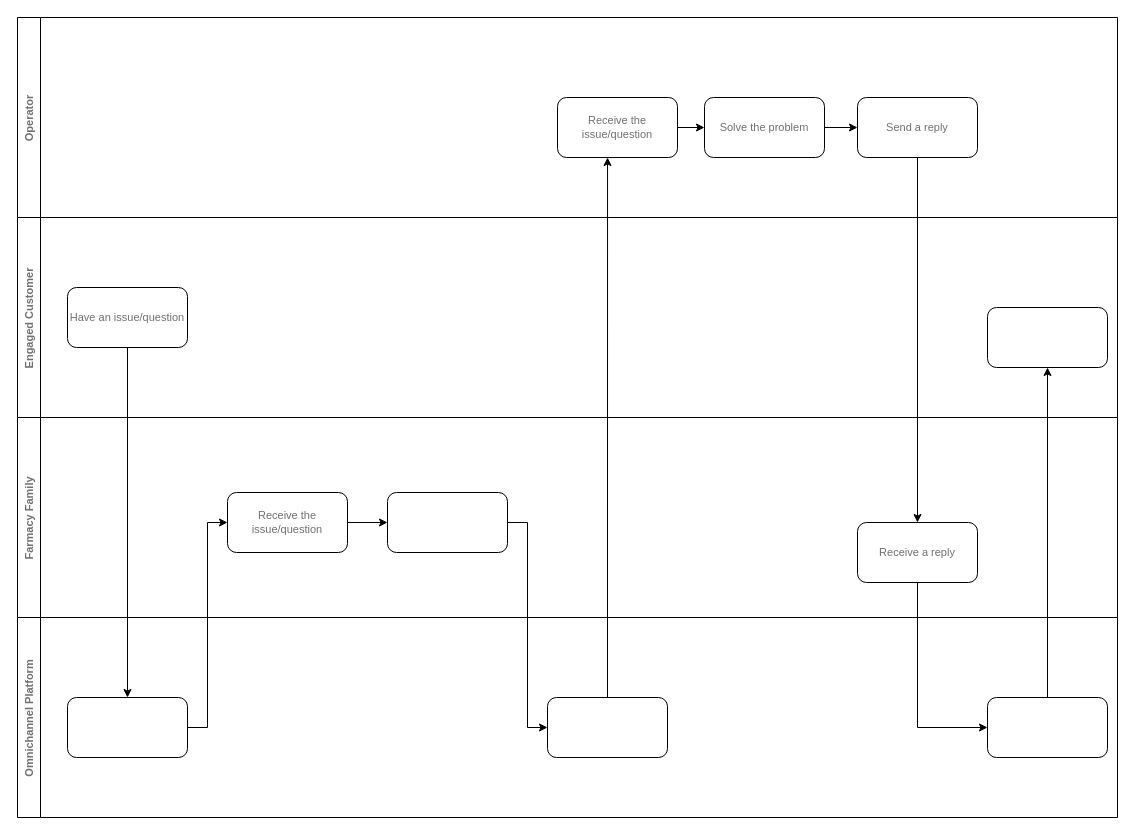
This 1135x835 diagram has some shape labels left out. Here are the shapes that lost their labels. From the top down, the centre of each, then its label:
the point at 1047,337: Receive solution
the point at 447,522: Distribute the issue/question
the point at 127,727: Send an issue/question
the point at 607,727: Send the issue/question
the point at 1047,727: Send solution
